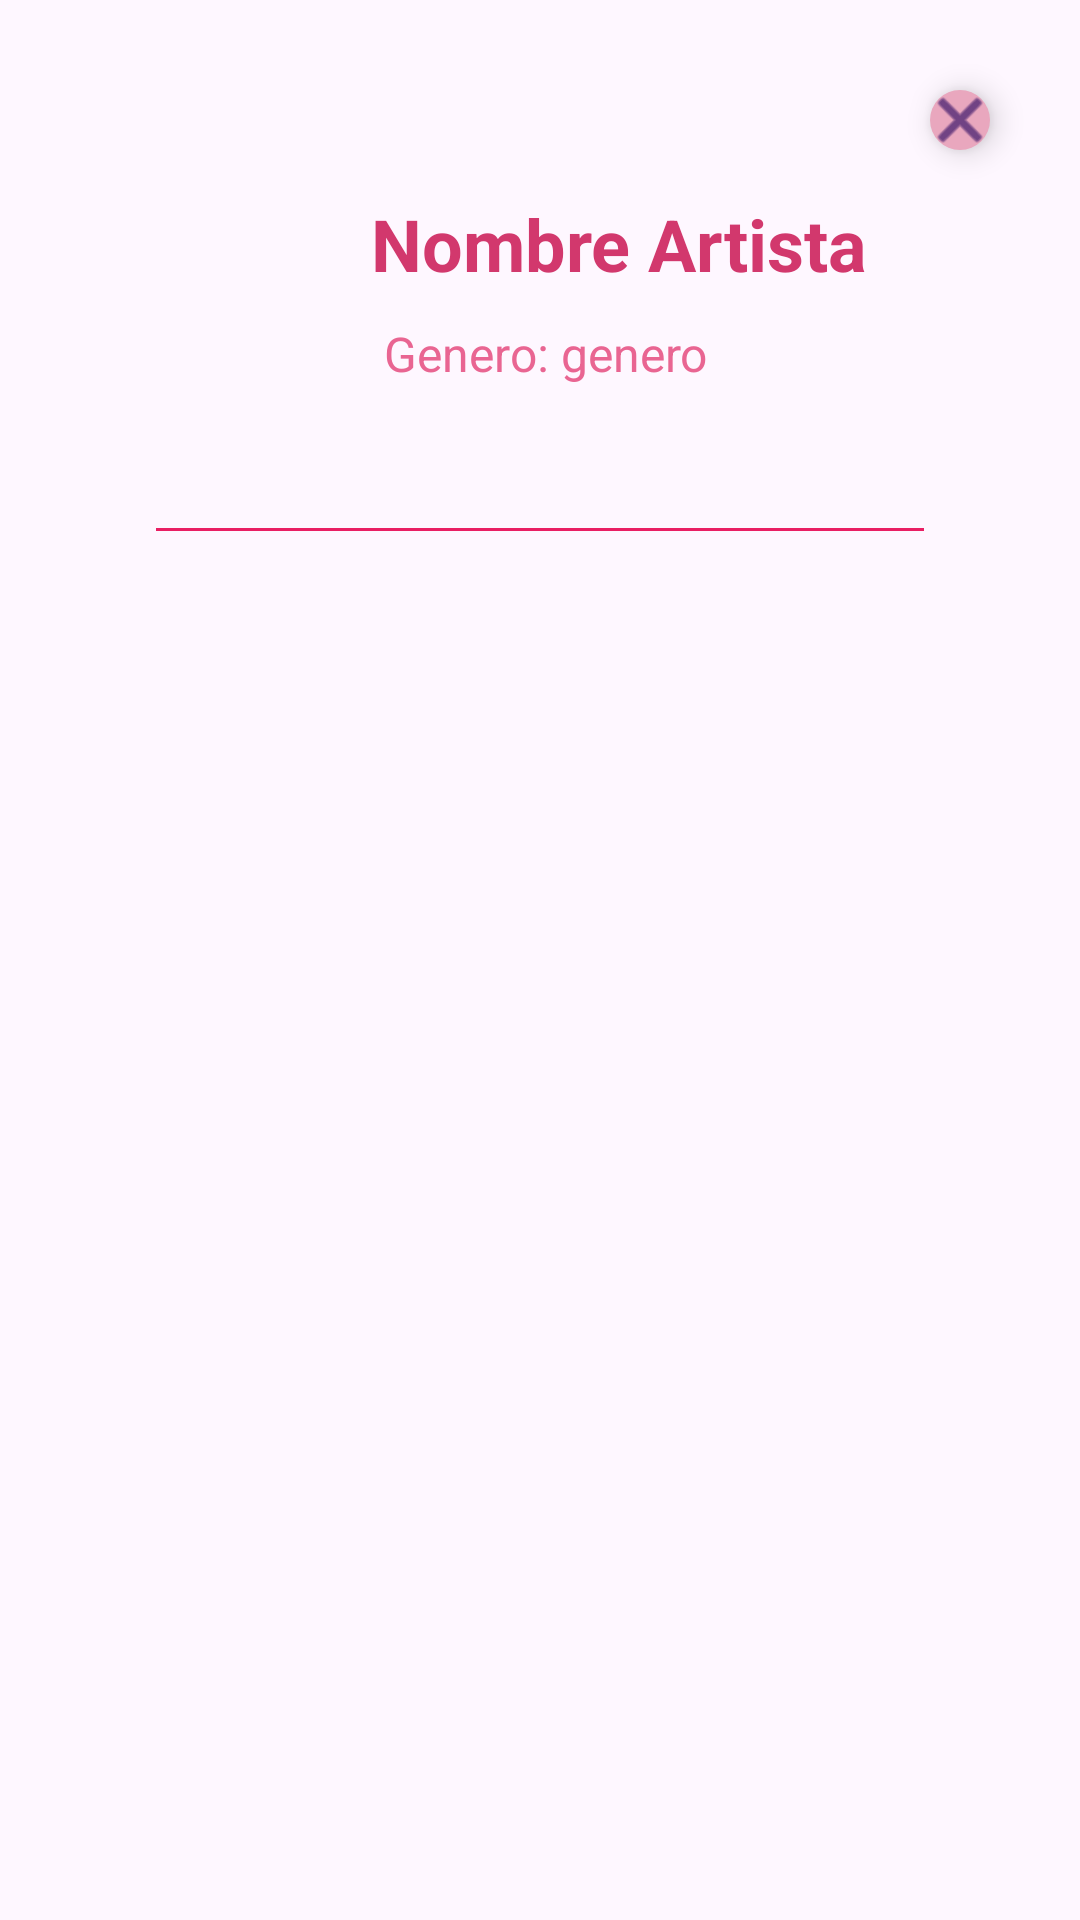

Where to tap for icons on this 1080w x 1920h app screen, as point (x, y):
close clear cancel: point (961, 120)
